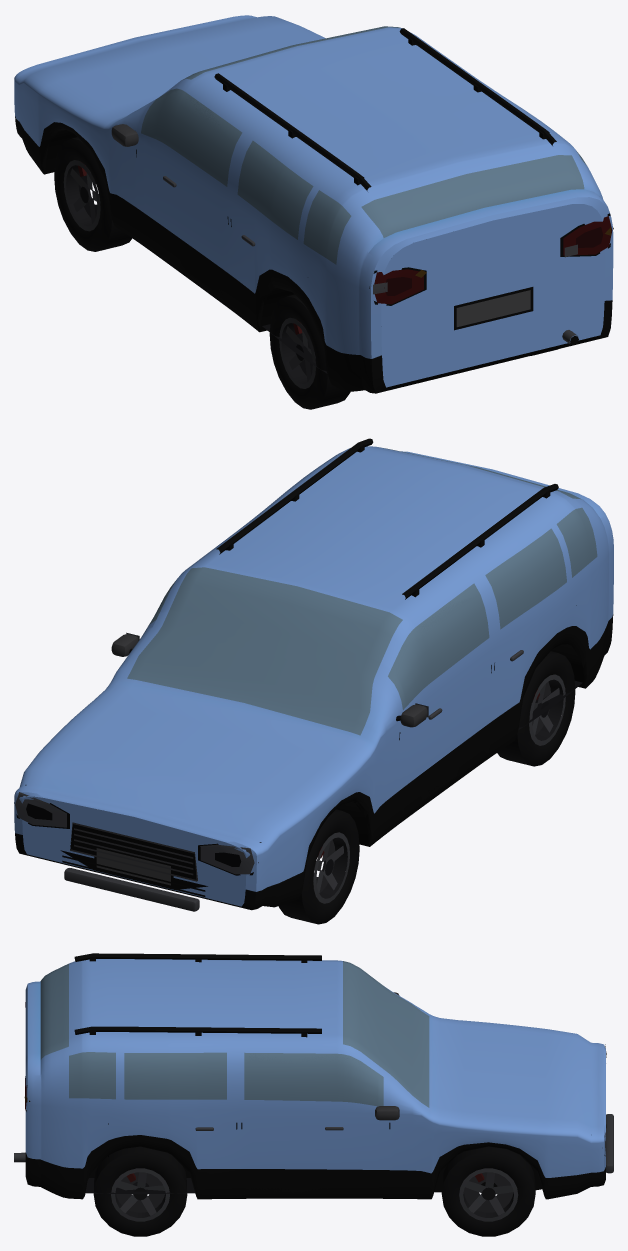
File: cv2_suv.glb
3 renders of one model, top to bottom at view 1: azimuth 30°, elevation 25°; view 2: azimuth 150°, elevation 25°; view 3: azimuth 270°, elevation 25°, orthographic. The views are drawn at different scales.
Parts seen in each view (by area): view 1: Body, DoorL_Mesh; view 2: Body, DoorL_Mesh; view 3: Body, DoorR_Mesh.
Part boxes in pixels (x1,y1,x2,y2): Body: (14,15,613,409); DoorL_Mesh: (136,88,230,297); Body: (14,438,613,924); DoorL_Mesh: (386,589,491,815); Body: (14,953,613,1236); DoorR_Mesh: (241,1053,389,1192).
Size of what is drawn, in the model's own units: 2.3 by 1.76 by 4.86.
